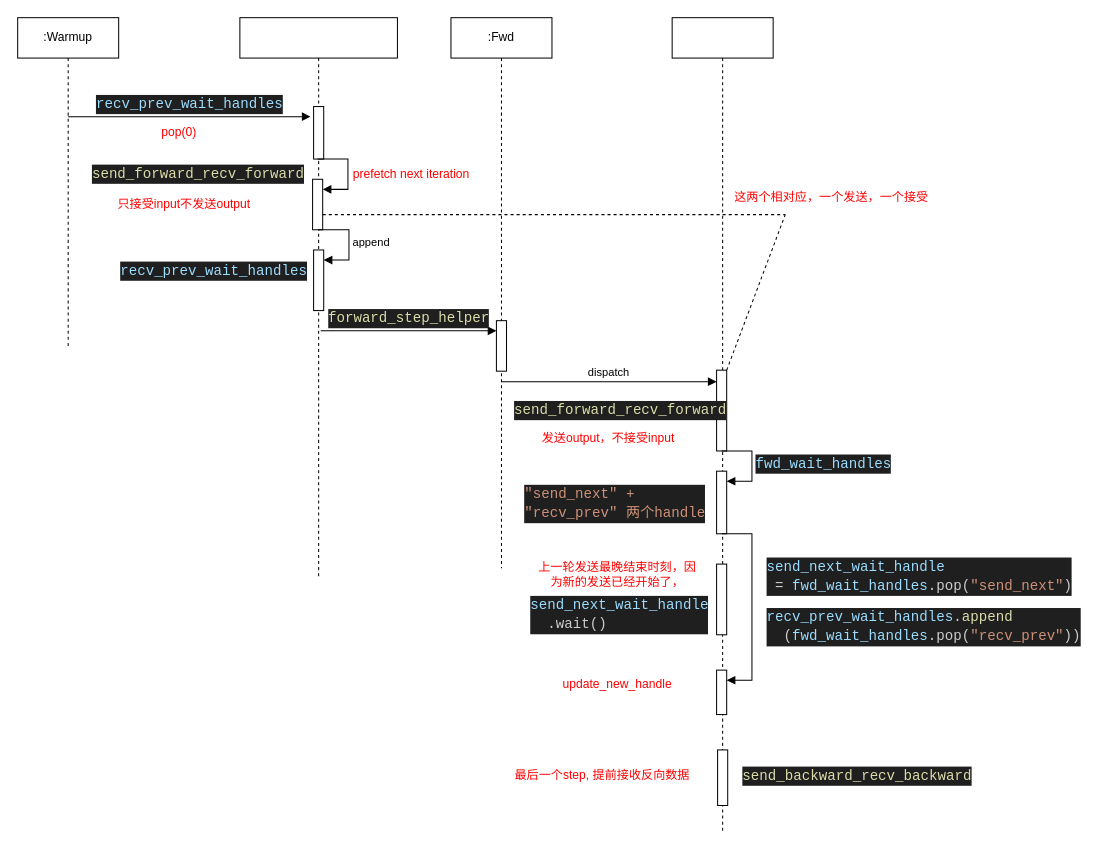
Image size: 1099x848. Some labels were removed from this diagram. Here are the shapes that lost their labels. From the top down, the centre of each, then its label:
point 318,297: wait and prefetch
point 722,424: send data
